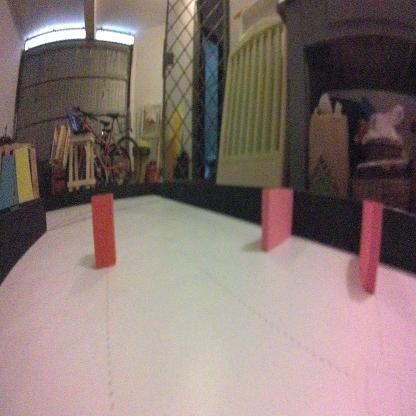magenta: (355, 197, 383, 298), (259, 186, 293, 254)
red: (89, 186, 117, 274)
